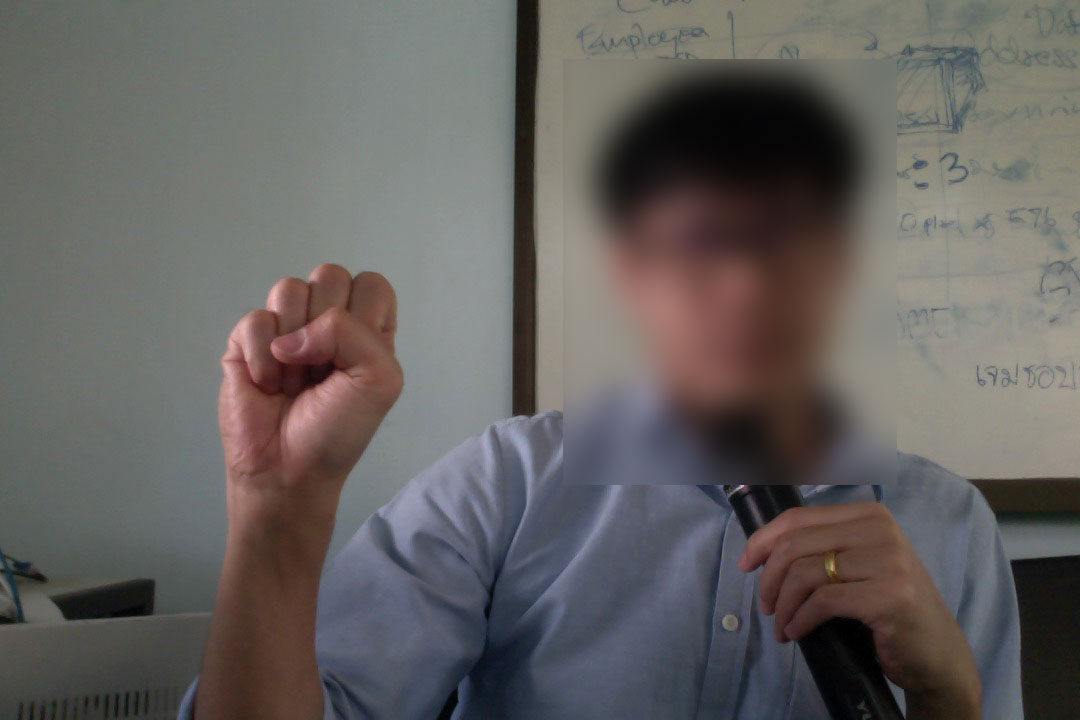sor: (210, 255, 410, 506)
